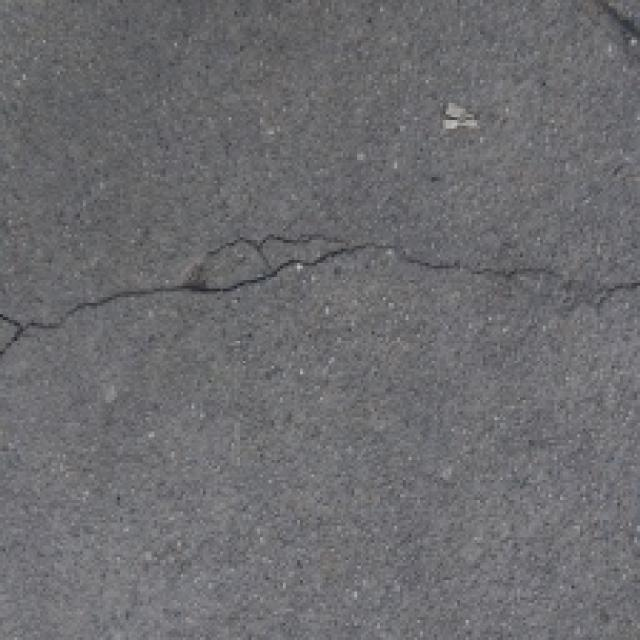crack: (0, 222, 640, 378)
